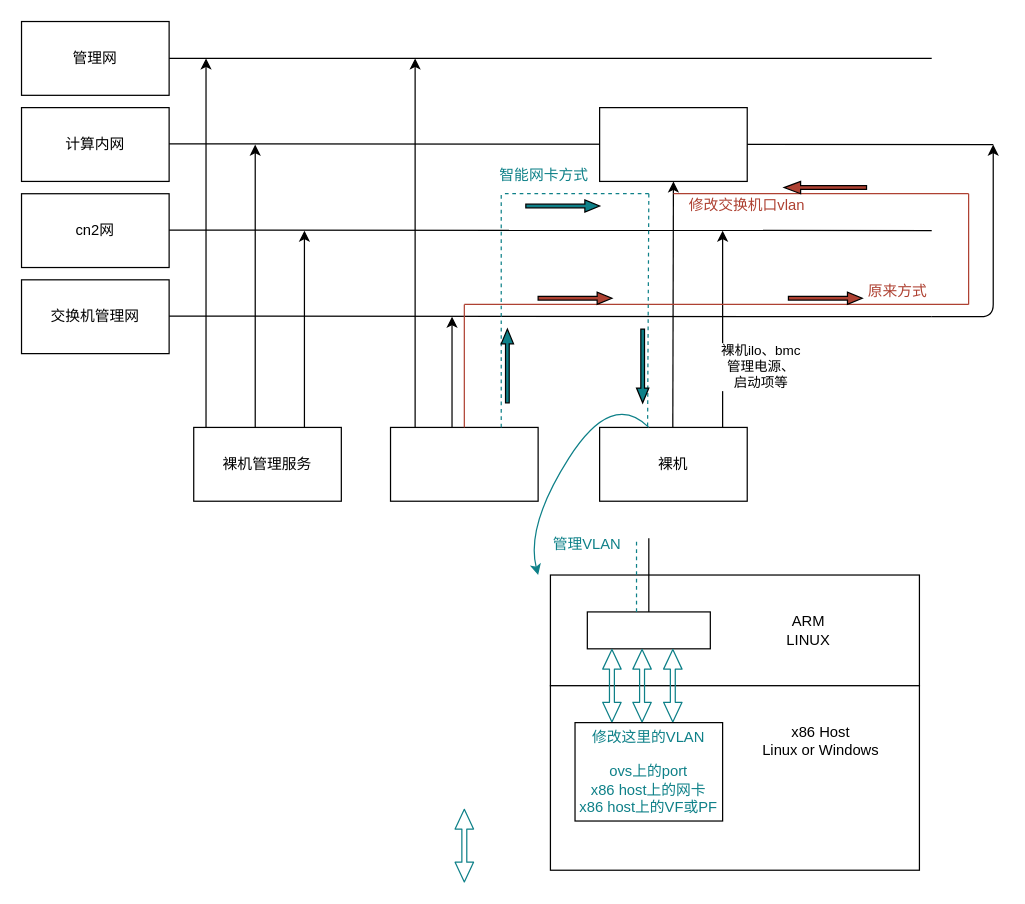
Some shapes in this 1025 by 904 pixel diagram are drawn without their labels. The shapes that lost their labels are listed below. From the top down, each one's centre as x and y in pixels, then its label:
At point (672, 143): "计算内网交换机".
At point (463, 463): "Neutron server服务".
At point (648, 630): "OVS".
